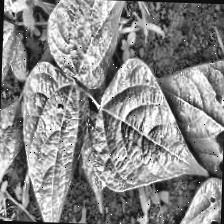ALS: (93, 54, 204, 202), (13, 64, 94, 224), (45, 0, 140, 77), (179, 176, 222, 224), (0, 13, 12, 89)
